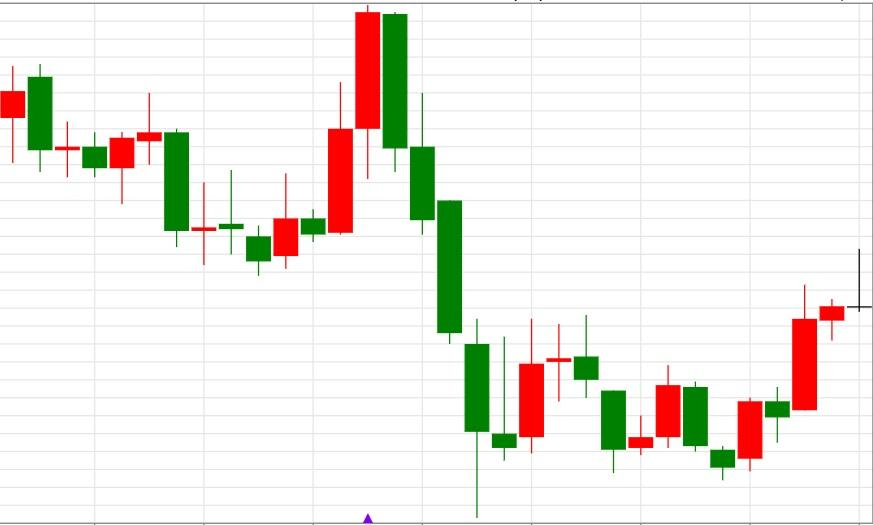three_black_crows_fall: (245, 3, 463, 345)
